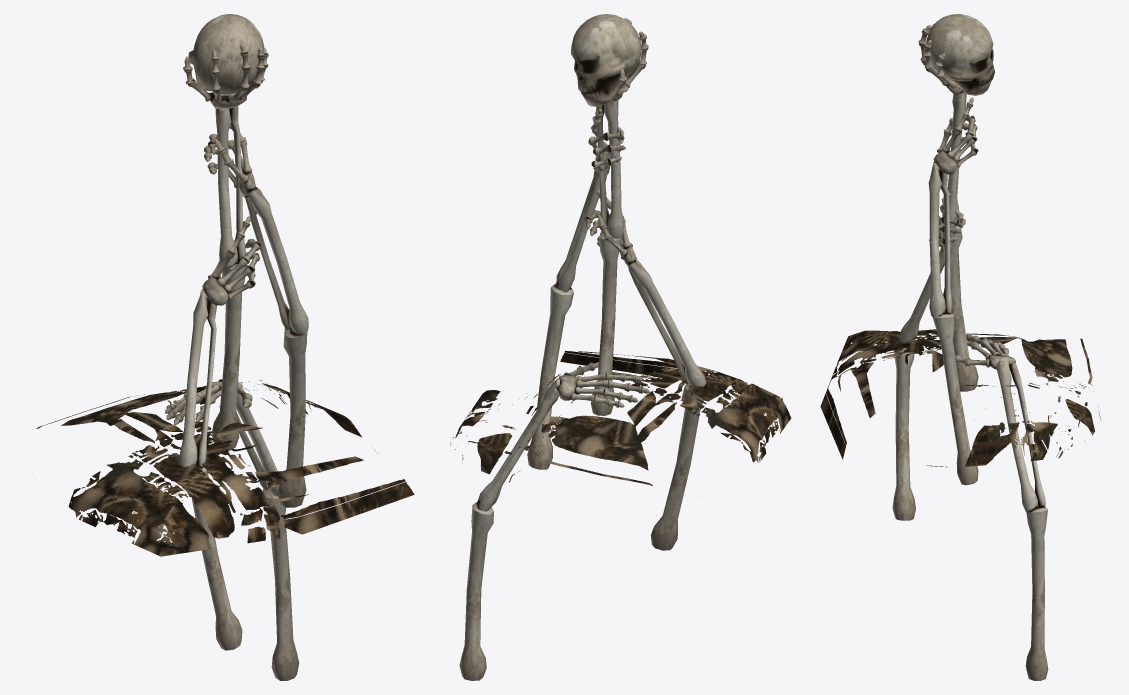
File: BonfireFinished.fbx
3 renders of one model, left to right at view 1: azimuth 30°, elevation 25°; view 2: azimuth 150°, elevation 25°; view 3: azimuth 270°, elevation 25°, orthographic. The views are drawn at different scales.
Visible parts, largest first — view 1: Cube.005, Cube.001, Cube.023, Cube.022, Cube.002, Sphere; view 2: Cube.005, Cube.002, Cube.023, Cube.001, Cube.022, Sphere; view 3: Cube.005, Cube.001, Cube.002, Cube.023, Sphere, Cube.022.
Part boxes in pixels (x1,y1,x2,y2): Cube.005: [36, 380, 414, 556]; Cube.001: [204, 124, 308, 507]; Cube.023: [179, 216, 261, 650]; Cube.022: [183, 43, 268, 450]; Cube.002: [165, 379, 299, 680]; Sphere: [188, 14, 264, 94]; Cube.005: [450, 350, 791, 485]; Cube.002: [459, 362, 650, 680]; Cube.023: [584, 190, 706, 550]; Cube.001: [527, 109, 625, 469]; Cube.022: [590, 18, 648, 415]; Sphere: [571, 14, 641, 106]; Cube.005: [820, 329, 1101, 467]; Cube.001: [928, 97, 978, 485]; Cube.002: [955, 333, 1048, 680]; Cube.023: [892, 192, 965, 520]; Sphere: [926, 14, 994, 95]; Cube.022: [918, 21, 978, 391].
Size of the model in its own units: 10486 by 23688 by 10200.
